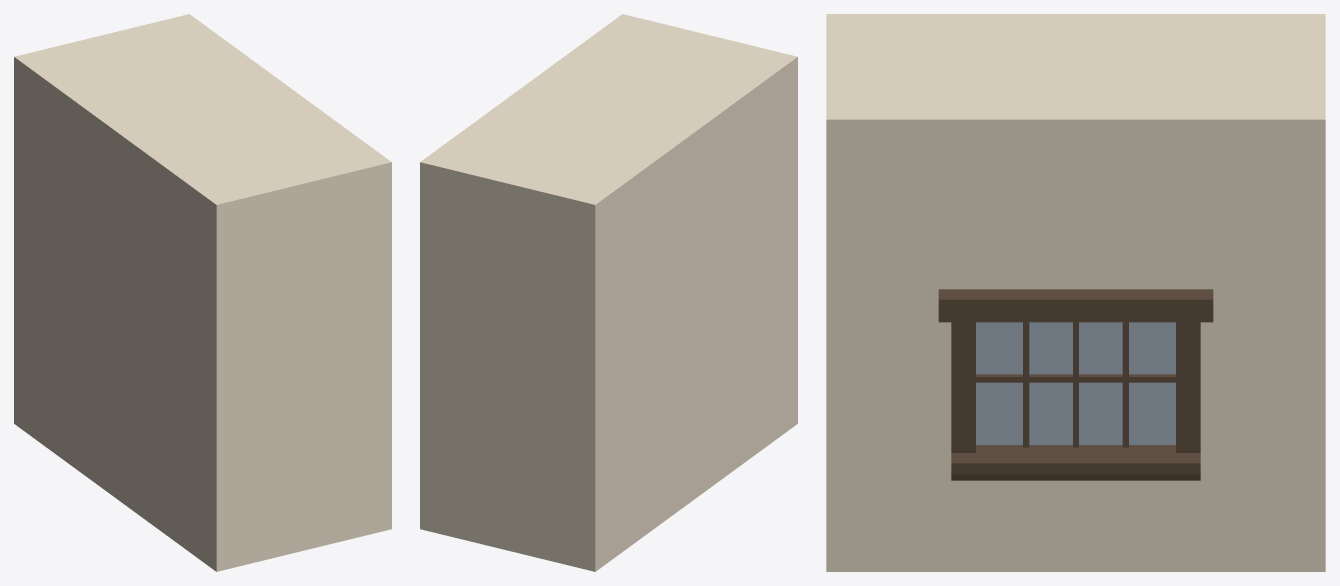
Rendered from Stucco_Window_Double_Wide_Tall.obj.
3 renders of one model, left to right at view 1: azimuth 30°, elevation 25°; view 2: azimuth 150°, elevation 25°; view 3: azimuth 270°, elevation 25°, orthographic. The views are drawn at different scales.
Visible parts, largest first — view 1: object3; view 2: object3; view 3: object3, object1, object2.
Part boxes in pixels (box(x1,y1,x2,y2)): object3: box(14, 14, 391, 571); object3: box(420, 14, 797, 571); object3: box(826, 14, 1325, 571); object1: box(938, 289, 1213, 480); object2: box(976, 322, 1175, 447).
Bounding box in the file's own units: 1.15 × 2 × 2.
